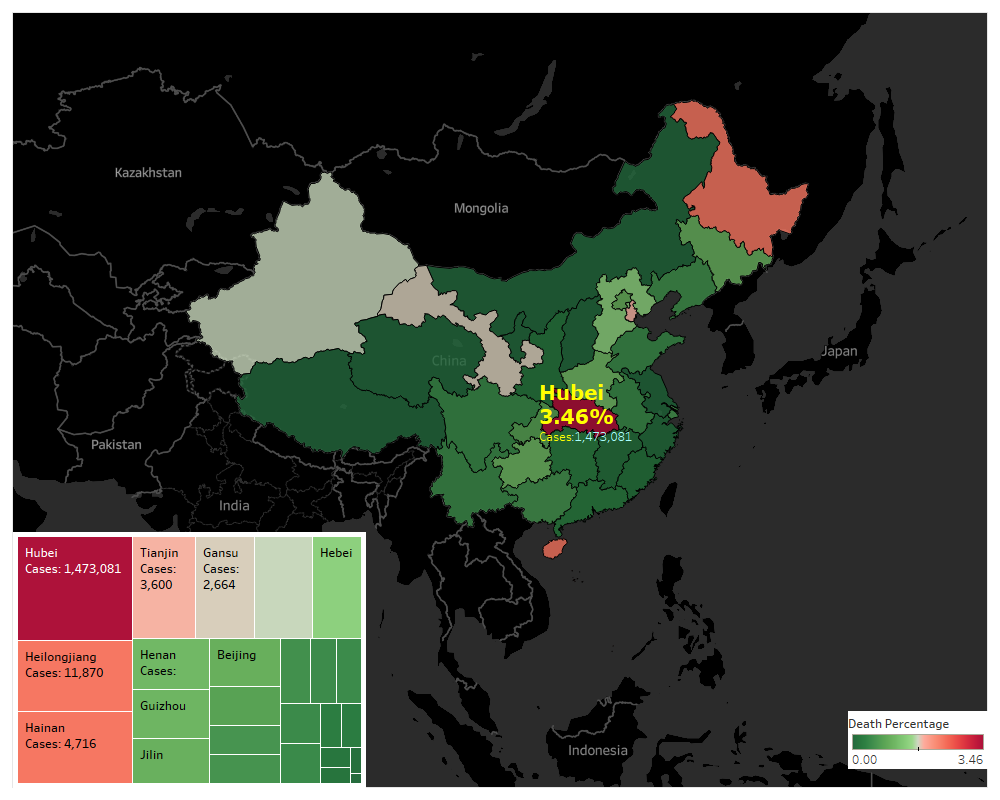

What the dashboard file says about the page in this screenshot:
{"tool":"tableau","page":{"name":"China Death Analysis","canvas":[1000,800],"ordinal":2},"visuals":[{"type":"worksheet","title":"Max Death Percentage","mark":"Multipolygon","box":[8,8,984,784]},{"type":"worksheet","title":"Death Percentage details","mark":"Automatic","box":[13,532,352,255]},{"type":"legend","title":"Death Percentage details","param":"[federated.1qtb5s40355yoo1dldp6701eauhl].[usr:Recovery Percentage (copy):qk]","box":[848,711,140,76]}]}

Visuals, with their boxes in screenshot pixels (x1, y1, x2, y2), scaled from the page's 1000x800 canvas onto the 1000x800 screenshot:
"Max Death Percentage" worksheet (Multipolygon marks): (8,8,992,792)
"Death Percentage details" worksheet: (13,532,365,787)
"Death Percentage details" legend: (848,711,988,787)
